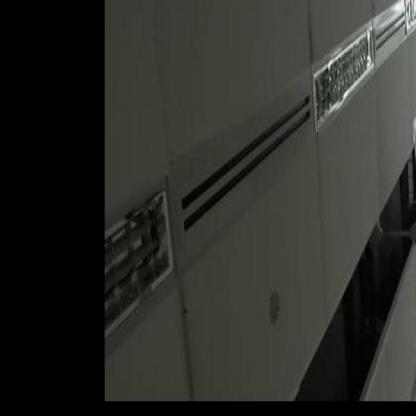light_off: (16, 158, 176, 414), (297, 12, 388, 131)
